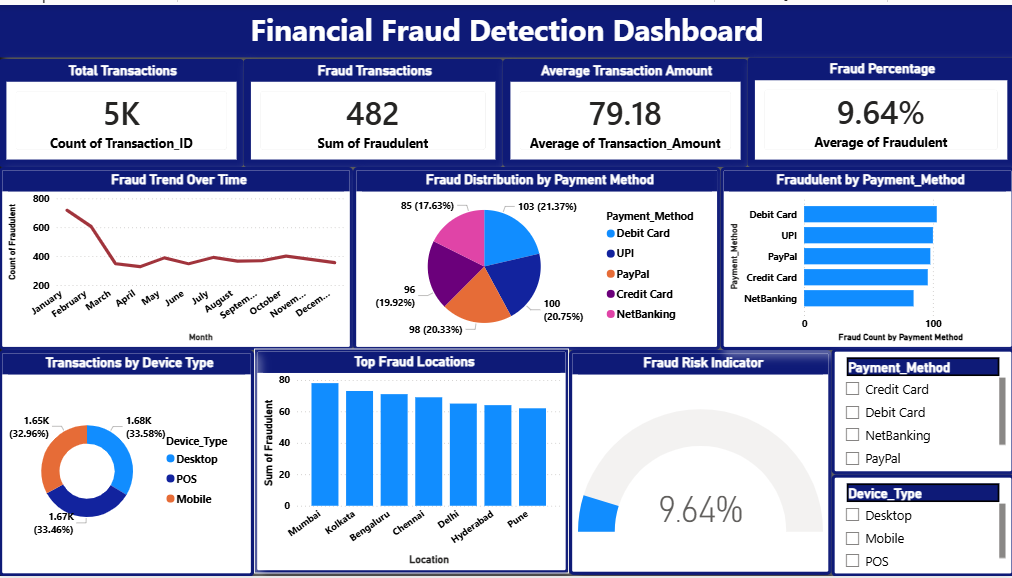

The dashboard page shown, as its layout file describes it:
{"tool":"powerbi","page":{"name":"Dashboard","canvas":[1280,720],"ordinal":0},"visuals":[{"type":"textbox","box":[0,0,1279.4,66.1],"z":0},{"type":"cardVisual","title":"Total Transactions","fields":{"Data":["CountNonNull(financial_fraud_detection_dataset.Transaction_ID)"]},"box":[0,68,308,136.1],"z":1000},{"type":"cardVisual","title":"Fraud Transactions","fields":{"Data":["Sum(financial_fraud_detection_dataset.Fraudulent)"]},"box":[308,68,326.9,136.1],"z":2000},{"type":"cardVisual","title":"Average Transaction Amount","fields":{"Data":["Avg(financial_fraud_detection_dataset.Transaction_Amount)"]},"box":[635,68,308,136.1],"z":3000},{"type":"cardVisual","title":"Fraud Percentage","fields":{"Data":["Avg(financial_fraud_detection_dataset.Fraudulent)"]},"box":[943,66.1,336.4,138],"z":4000},{"type":"lineChart","title":"Fraud Trend Over Time","fields":{"Y":["CountNonNull(financial_fraud_detection_dataset.Fraudulent)"],"Category":["financial_fraud_detection_dataset.Transaction_Date.Variation.Date Hierarchy.Month"]},"box":[0,204.1,446,230.6],"z":5000},{"type":"pieChart","title":"Fraud Distribution by Payment Method","fields":{"Category":["financial_fraud_detection_dataset.Payment_Method"],"Y":["Sum(financial_fraud_detection_dataset.Fraudulent)"]},"box":[446,204.1,463,230.6],"z":6000},{"type":"columnChart","title":"Top Fraud Locations","fields":{"Category":["financial_fraud_detection_dataset.Location"],"Y":["Sum(financial_fraud_detection_dataset.Fraudulent)"]},"box":[321.3,432.8,396.9,283.5],"z":7000},{"type":"donutChart","title":"Transactions by Device Type","fields":{"Category":["financial_fraud_detection_dataset.Device_Type"],"Y":["CountNonNull(financial_fraud_detection_dataset.Transaction_ID)"]},"box":[0,434.6,321.3,285.4],"z":8000},{"type":"gauge","title":"Fraud Risk Indicator","fields":{"Y":["Avg(financial_fraud_detection_dataset.Fraudulent)"]},"box":[718.1,434.6,330.7,283.5],"z":9000},{"type":"clusteredBarChart","title":" Fraudulent by Payment_Method","fields":{"Category":["financial_fraud_detection_dataset.Payment_Method"],"Y":["Sum(financial_fraud_detection_dataset.Fraudulent)"]},"box":[909,204.1,370.4,230.6],"z":10000},{"type":"slicer","fields":{"Values":["financial_fraud_detection_dataset.Payment_Method"]},"box":[1048.8,432.8,230.6,158.7],"z":11000},{"type":"slicer","fields":{"Values":["financial_fraud_detection_dataset.Device_Type"]},"box":[1048.8,591.5,230.6,128.5],"z":13000}]}

Visuals, with their boxes in screenshot pixels (x1, y1, x2, y2), scaled from the page's 1280x720 canvas onto the 1012x578 screenshot:
textbox: {"x1": 0, "y1": 0, "x2": 1011, "y2": 53}
"Total Transactions" cardVisual: {"x1": 0, "y1": 55, "x2": 244, "y2": 164}
"Fraud Transactions" cardVisual: {"x1": 244, "y1": 55, "x2": 502, "y2": 164}
"Average Transaction Amount" cardVisual: {"x1": 502, "y1": 55, "x2": 746, "y2": 164}
"Fraud Percentage" cardVisual: {"x1": 746, "y1": 53, "x2": 1011, "y2": 164}
"Fraud Trend Over Time" lineChart: {"x1": 0, "y1": 164, "x2": 353, "y2": 349}
"Fraud Distribution by Payment Method" pieChart: {"x1": 353, "y1": 164, "x2": 719, "y2": 349}
"Top Fraud Locations" columnChart: {"x1": 254, "y1": 347, "x2": 568, "y2": 575}
"Transactions by Device Type" donutChart: {"x1": 0, "y1": 349, "x2": 254, "y2": 577}
"Fraud Risk Indicator" gauge: {"x1": 568, "y1": 349, "x2": 829, "y2": 576}
" Fraudulent by Payment_Method" clusteredBarChart: {"x1": 719, "y1": 164, "x2": 1011, "y2": 349}
slicer - financial_fraud_detection_dataset.Payment_Method: {"x1": 829, "y1": 347, "x2": 1011, "y2": 475}
slicer - financial_fraud_detection_dataset.Device_Type: {"x1": 829, "y1": 475, "x2": 1011, "y2": 577}
